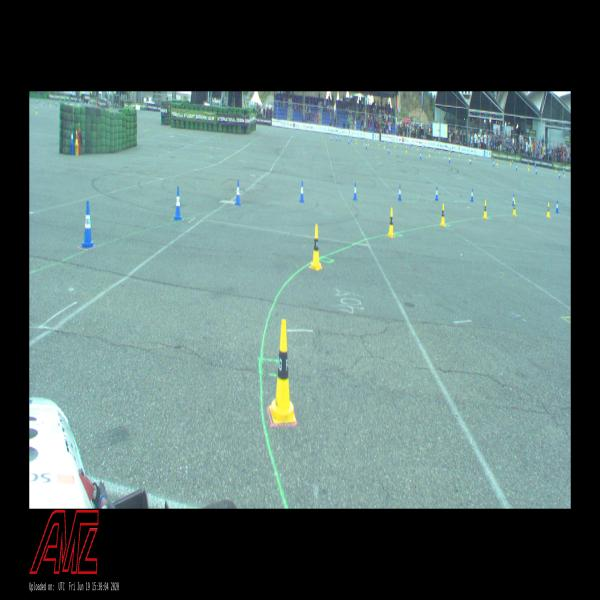blue_cone: (80, 201, 96, 248), (173, 186, 183, 220), (235, 180, 241, 205), (300, 181, 304, 202), (353, 182, 357, 200), (398, 184, 402, 201), (555, 200, 559, 213), (435, 186, 438, 201), (470, 189, 473, 202), (71, 131, 74, 144), (512, 194, 514, 206), (420, 152, 422, 159), (388, 147, 390, 154), (366, 142, 367, 150), (559, 172, 560, 179), (493, 160, 494, 167), (516, 163, 517, 170), (536, 168, 537, 174), (348, 138, 349, 144)
yellow_cone: (269, 319, 296, 424), (309, 224, 323, 270), (387, 207, 395, 238), (440, 204, 446, 226), (482, 200, 488, 219), (512, 200, 516, 216), (74, 130, 78, 146), (546, 203, 550, 218), (405, 146, 407, 153), (428, 150, 430, 157)
